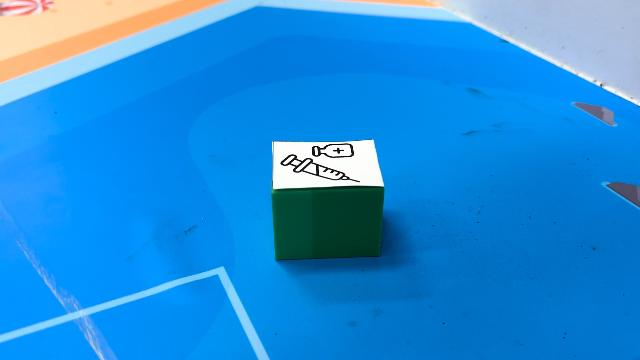syringe: (271, 139, 385, 261)
